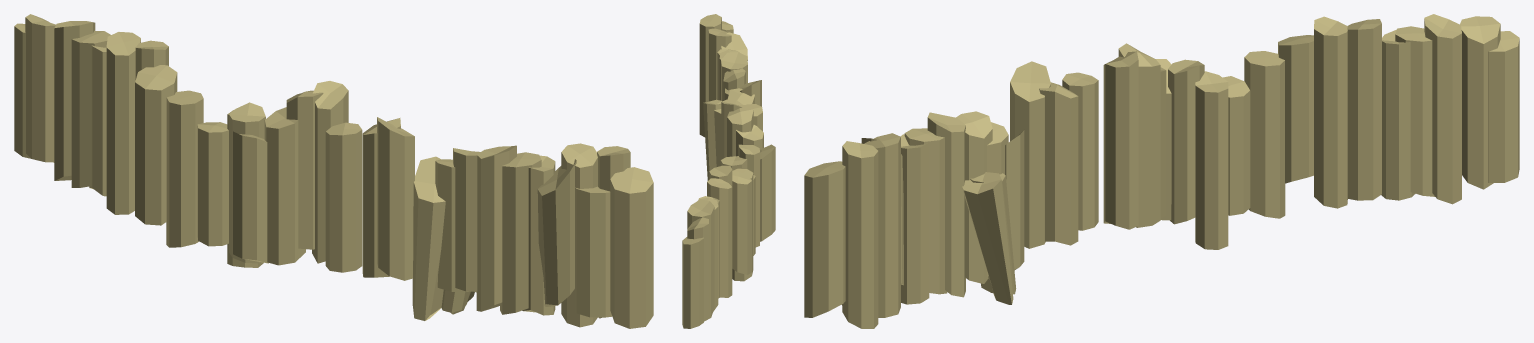
Rendered from more mountain1.fbx.
3 renders of one model, left to right at view 1: azimuth 30°, elevation 25°; view 2: azimuth 150°, elevation 25°; view 3: azimuth 270°, elevation 25°, orthographic. The views are drawn at different scales.
Parts seen in each view (by area): view 1: Cube.118, Cube.125, Cube.114, Cube.112, Cube.101, Cube.103, Cube.104, Cube.109, Cube.126, Cube.120, Cube.119, Cube.110 (+17 smaller); view 2: Cube.103, Cube.096, Cube.101, Cube.110, Cube.124, Cube.098, Cube.123, Cube.108, Cube.117, Cube.107, Cube.099, Cube.097 (+17 smaller); view 3: Cube.102, Cube.124, Cube.125, Cube.111, Cube.101, Cube.104, Cube.106, Cube.098, Cube.113, Cube.099, Cube.114, Cube.100 (+18 smaller).
Boxes of the visible parts, x1,y1,x2,y2 form: Cube.118: [435, 159, 612, 317]; Cube.125: [610, 167, 653, 328]; Cube.114: [377, 117, 414, 280]; Cube.112: [325, 122, 362, 272]; Cube.101: [106, 32, 140, 214]; Cube.103: [135, 65, 177, 225]; Cube.104: [166, 90, 203, 247]; Cube.109: [264, 107, 305, 265]; Cube.126: [537, 159, 576, 306]; Cube.120: [476, 145, 516, 311]; Cube.119: [500, 152, 541, 314]; Cube.110: [233, 131, 268, 263]; Cube.103: [732, 170, 751, 274]; Cube.096: [682, 237, 703, 328]; Cube.101: [707, 178, 732, 297]; Cube.110: [760, 144, 775, 241]; Cube.124: [699, 14, 721, 137]; Cube.098: [687, 199, 714, 321]; Cube.123: [708, 28, 731, 101]; Cube.108: [727, 105, 753, 156]; Cube.117: [703, 99, 721, 180]; Cube.107: [738, 144, 759, 247]; Cube.099: [687, 217, 708, 318]; Cube.097: [698, 197, 718, 311]; Cube.102: [1314, 16, 1347, 208]; Cube.124: [842, 141, 878, 328]; Cube.125: [804, 161, 845, 317]; Cube.111: [1103, 51, 1138, 229]; Cube.101: [1348, 19, 1381, 200]; Cube.104: [1244, 51, 1285, 218]; Cube.106: [1195, 71, 1228, 249]; Cube.098: [1424, 14, 1461, 204]; Cube.113: [1039, 82, 1078, 245]; Cube.099: [1460, 16, 1500, 189]; Cube.114: [1010, 61, 1050, 248]; Cube.100: [1381, 29, 1415, 200].
Size of the model in its own units: 5209 by 3167 by 9838.
